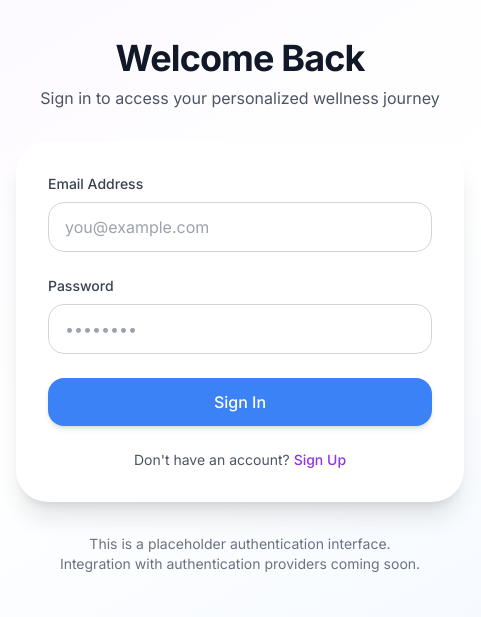
Test case: Login Input Validation Property-Based Tests › Property 40: should display validation errors in UI when login form is submitted with invalid data
// Submit without filling any fields
Click the button "Sign In" at (240, 402), box [48, 378, 432, 426]
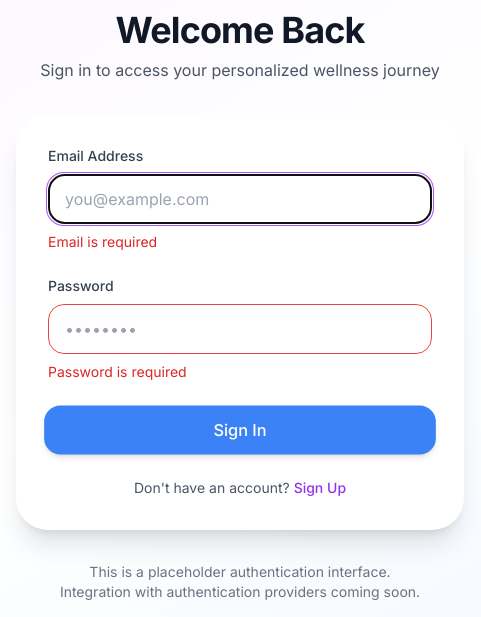
Now the text "Email is required" is shown, box [48, 233, 157, 250]
Now the text "Password is required" is shown, box [48, 363, 187, 380]
